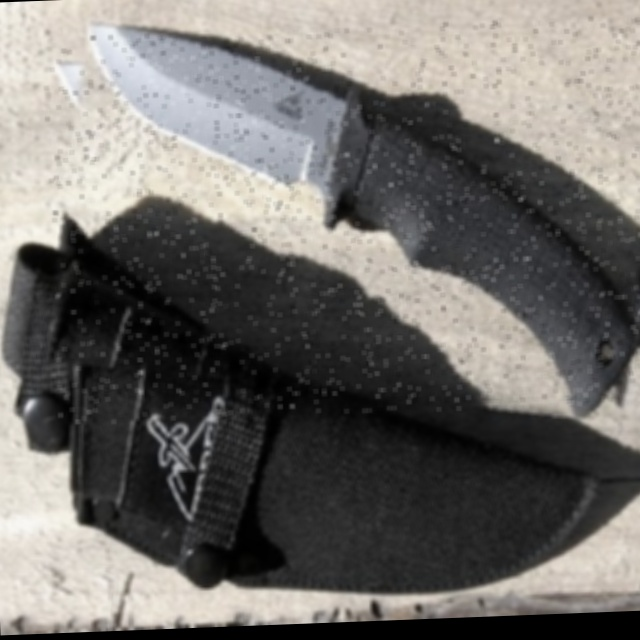Sharp-Object: (42, 15, 640, 425)
